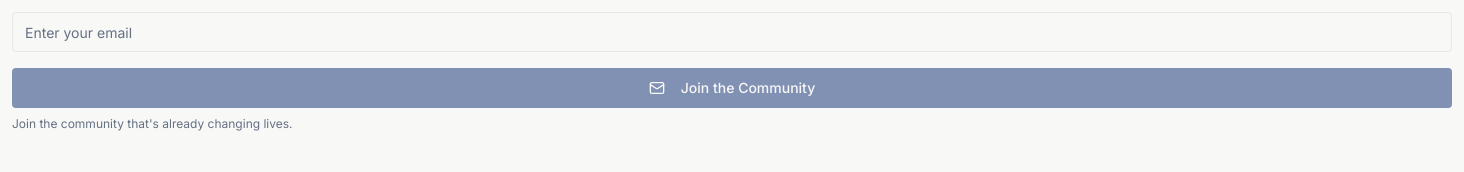
Test: WaitlistForm › submits form with valid email
This screenshot has width=1464, height=172.
Type "test@example.com" into the field with placeholder "Enter your email".
click(732, 32); type("test@example.com")  # box [12, 12, 1452, 52]
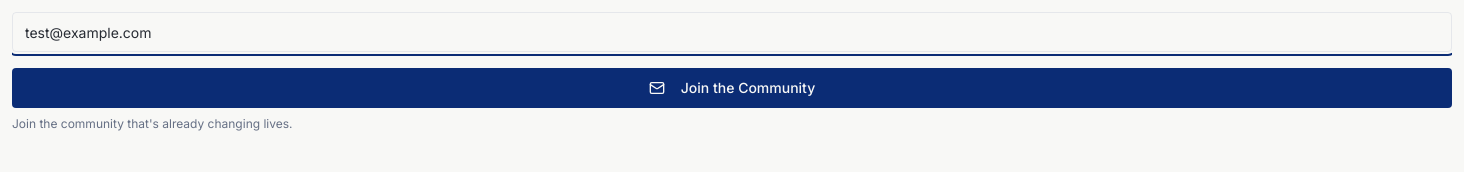
Click the button "Join the Community".
click(732, 88)  # box [12, 68, 1452, 108]
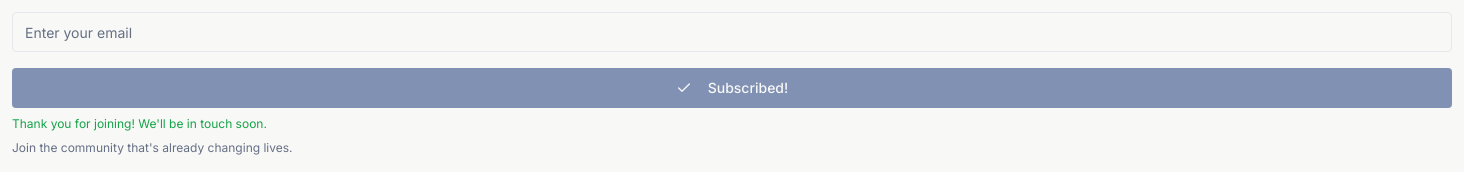
Expected: the text "Thank you for joining! We'll be in touch soon." is shown, [12, 116, 267, 131]
